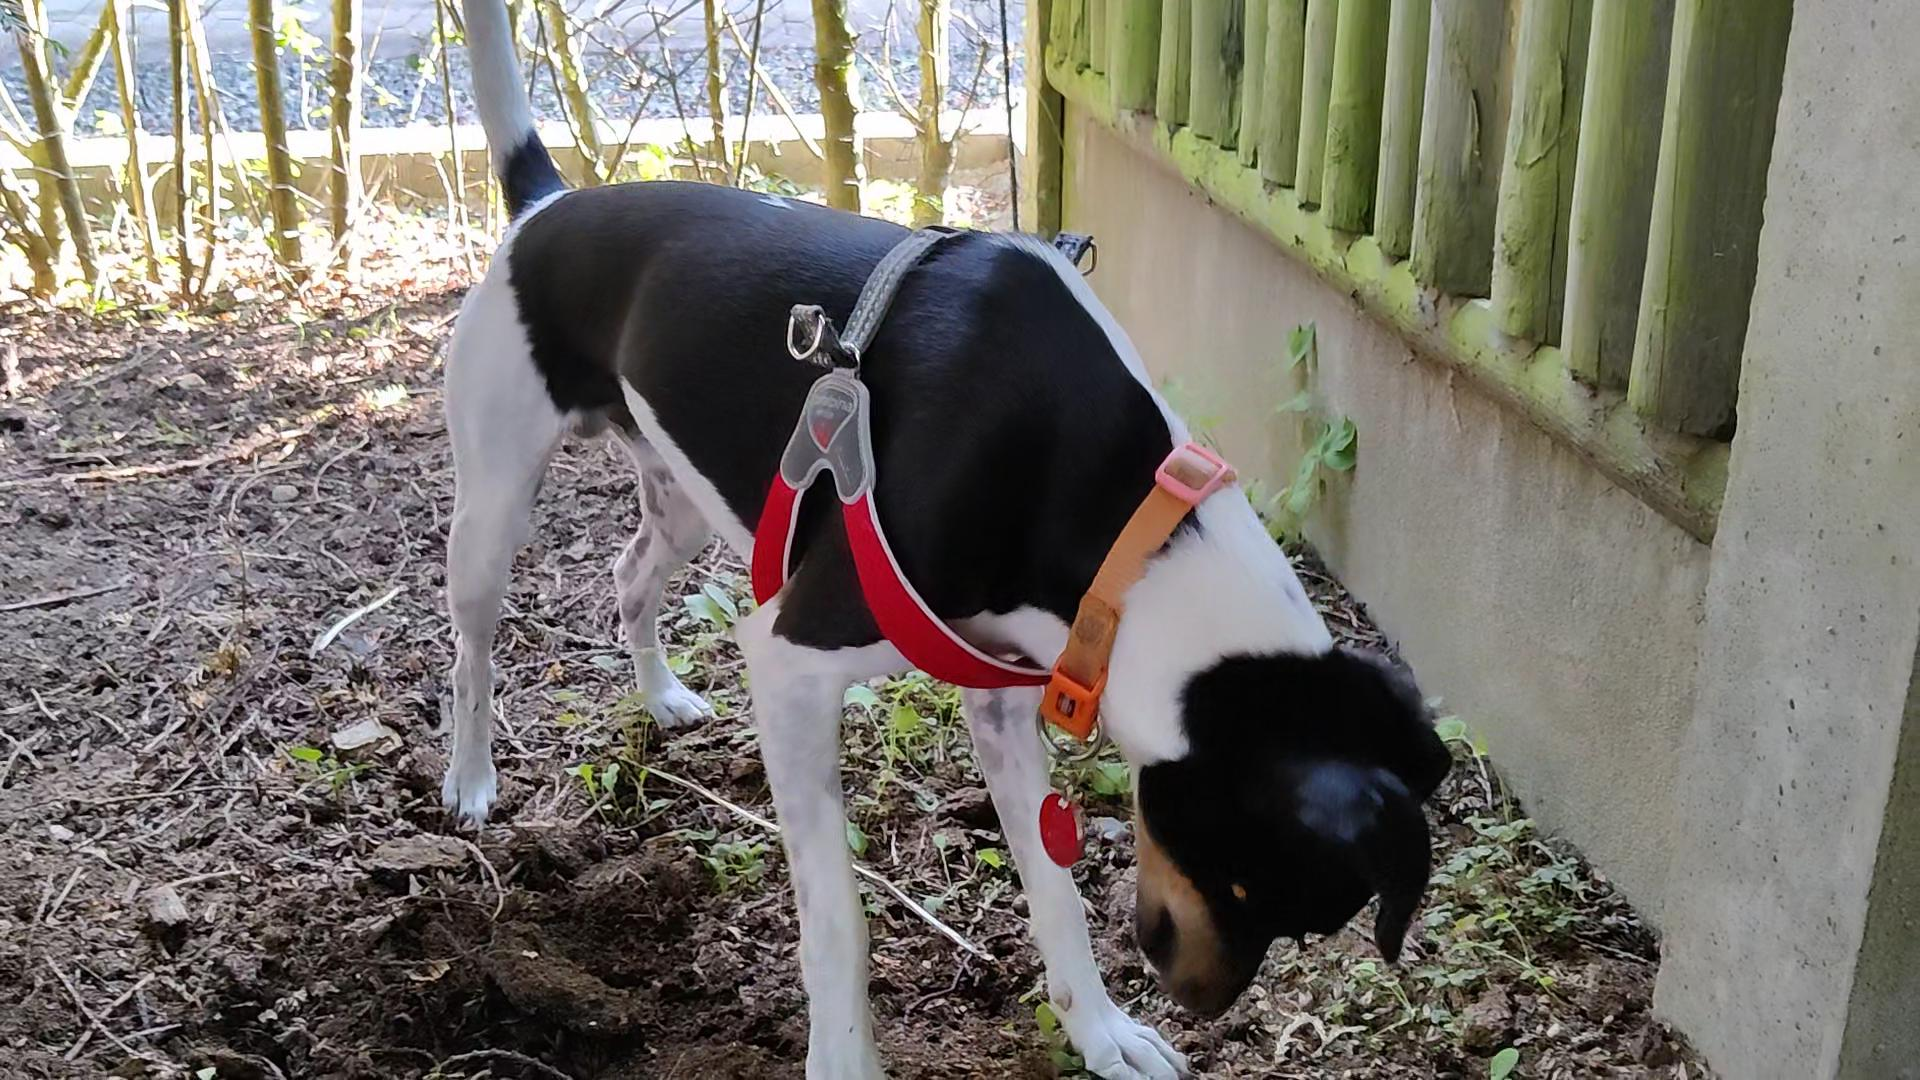Dog: (419, 0, 1464, 1080)
